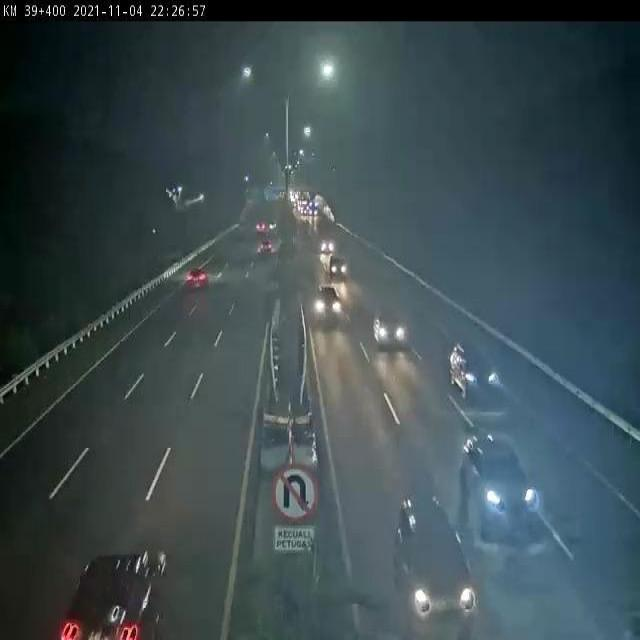car: (391, 493, 477, 632), (54, 553, 165, 640), (464, 430, 536, 530), (449, 338, 502, 398), (371, 301, 407, 348), (313, 284, 341, 321), (184, 264, 209, 291)
